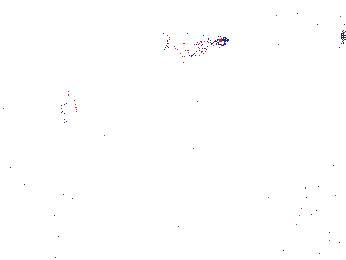X-ray fish: (56, 83, 79, 132)
glassfish: (120, 132, 230, 205)
redtail glassfish: (159, 29, 231, 64), (296, 2, 344, 30)
